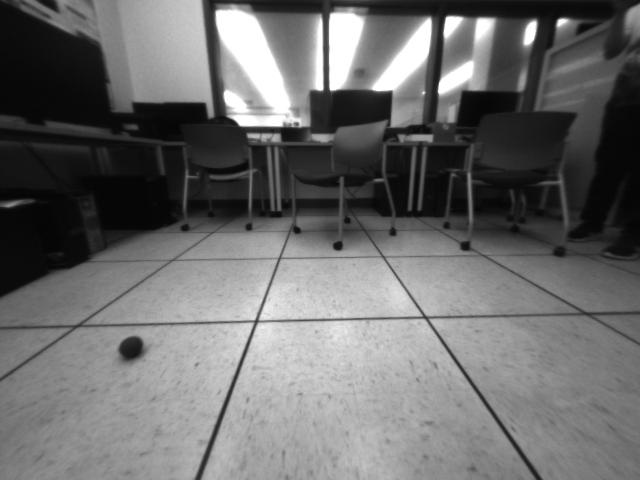dogtoy: (110, 330, 154, 364)
